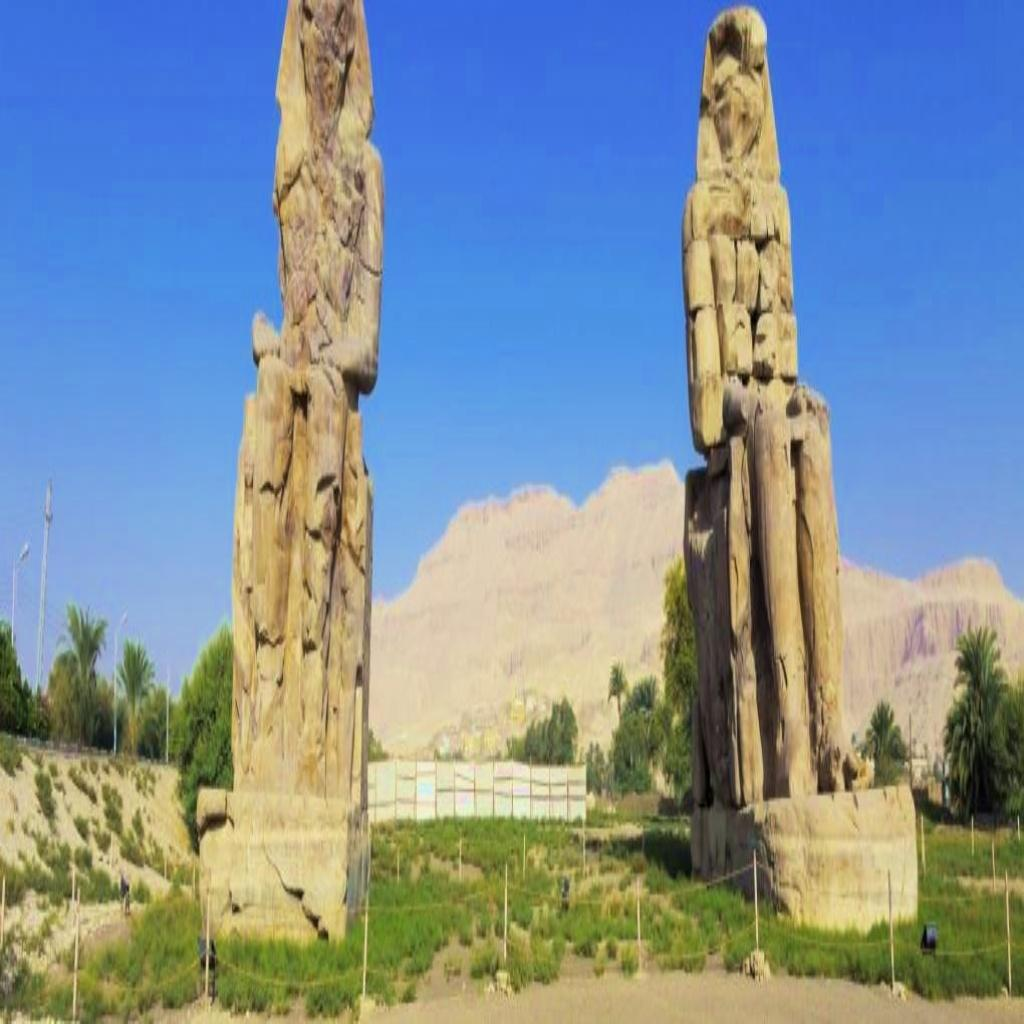Colossoi of Memnon: (676, 3, 918, 931), (194, 0, 388, 946)
